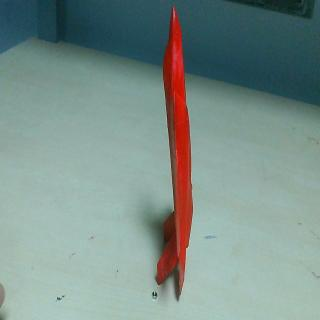Jet: (156, 4, 194, 297)
